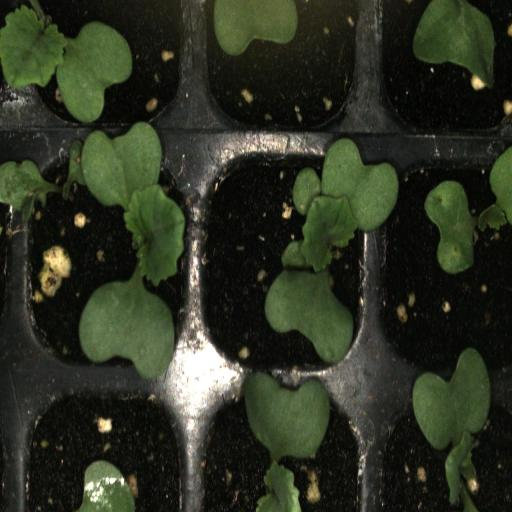Folha: (179, 0, 300, 78), (424, 180, 476, 274), (77, 460, 135, 512), (485, 146, 512, 229)
Germinacao: (195, 138, 375, 382), (14, 138, 192, 379), (378, 139, 511, 386), (10, 0, 193, 135), (377, 386, 511, 512)
